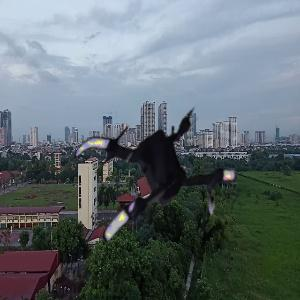drone: (71, 83, 253, 265)
